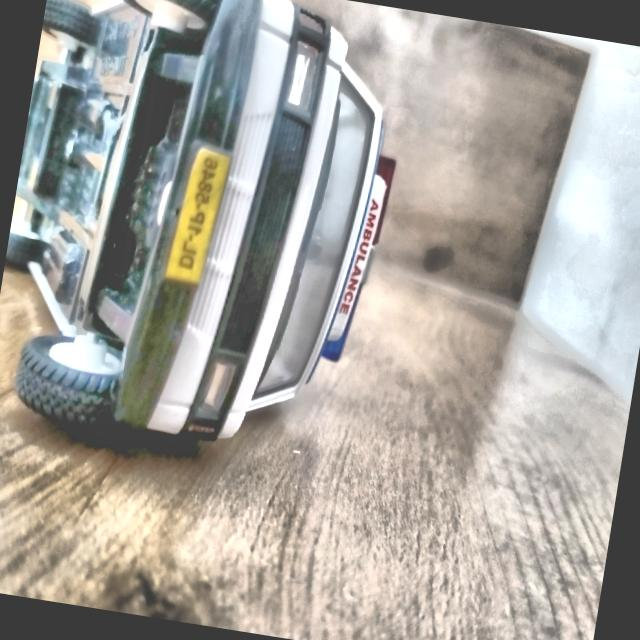Ambulance: (0, 0, 425, 516)
